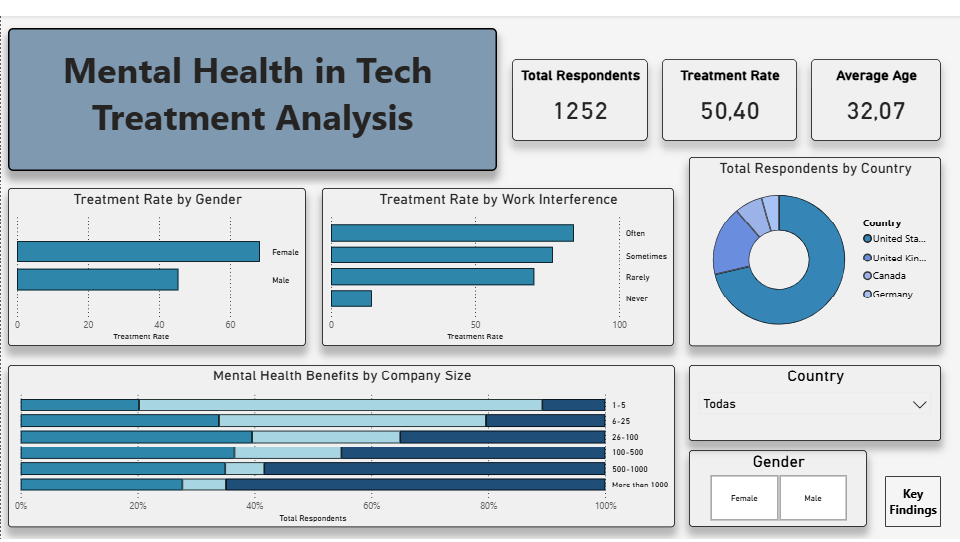

This screenshot's page, from the dashboard's own definition file:
{"tool":"powerbi","page":{"name":"Dashboard","canvas":[1280,720],"ordinal":0},"visuals":[{"type":"textbox","box":[9.3,17.3,652,196],"z":0},{"type":"cardVisual","title":"Treatment Rate","fields":{"Data":["_Medidas.Treatment Rate"]},"box":[881.3,60,180,112],"z":1000},{"type":"cardVisual","title":"Average Age","fields":{"Data":["_Medidas.Avg Age"]},"box":[1080,60,173.3,112],"z":2000},{"type":"cardVisual","title":"Total Respondents","fields":{"Data":["_Medidas.Total Respondents"]},"box":[681.3,60,181.3,112],"z":3000},{"type":"clusteredBarChart","title":"Treatment Rate by Gender","fields":{"Category":["Survey.Gender"],"Y":["_Medidas.Treatment Rate"]},"box":[9.3,237.3,397.3,216],"z":4000},{"type":"clusteredBarChart","title":"Treatment Rate by Work Interference","fields":{"Category":["Survey.Work_Interfere"],"Y":["_Medidas.Treatment Rate"]},"box":[428,237.3,469.3,216],"z":5000},{"type":"donutChart","title":"Total Respondents by Country","fields":{"Category":["Survey.Country"],"Y":["_Medidas.Total Respondents"]},"box":[917.3,194.7,336,258.7],"z":6000},{"type":"hundredPercentStackedBarChart","title":"Mental Health Benefits by Company Size","fields":{"Category":["Survey.No_Employees"],"Series":["Survey.Benefits"],"Y":["_Medidas.Total Respondents"]},"box":[9.3,478.7,889.3,222.7],"z":7000},{"type":"slicer","title":"Gender","fields":{"Values":["Survey.Gender"]},"box":[917.3,596,237.3,105.3],"z":8000},{"type":"slicer","title":"Country","fields":{"Values":["Survey.Country"]},"box":[917.3,478.7,336,104],"z":9000},{"type":"actionButton","box":[1178.7,630.7,74.7,70.7],"z":10000}]}

Visuals, with their boxes in screenshot pixels (x1, y1, x2, y2), scaled from the page's 1280x720 canvas onto the 960x542 screenshot:
textbox: box(7, 13, 496, 161)
"Treatment Rate" cardVisual: box(661, 45, 796, 129)
"Average Age" cardVisual: box(810, 45, 940, 129)
"Total Respondents" cardVisual: box(511, 45, 647, 129)
"Treatment Rate by Gender" clusteredBarChart: box(7, 179, 305, 341)
"Treatment Rate by Work Interference" clusteredBarChart: box(321, 179, 673, 341)
"Total Respondents by Country" donutChart: box(688, 147, 940, 341)
"Mental Health Benefits by Company Size" hundredPercentStackedBarChart: box(7, 360, 674, 528)
"Gender" slicer: box(688, 449, 866, 528)
"Country" slicer: box(688, 360, 940, 439)
actionButton: box(884, 475, 940, 528)
